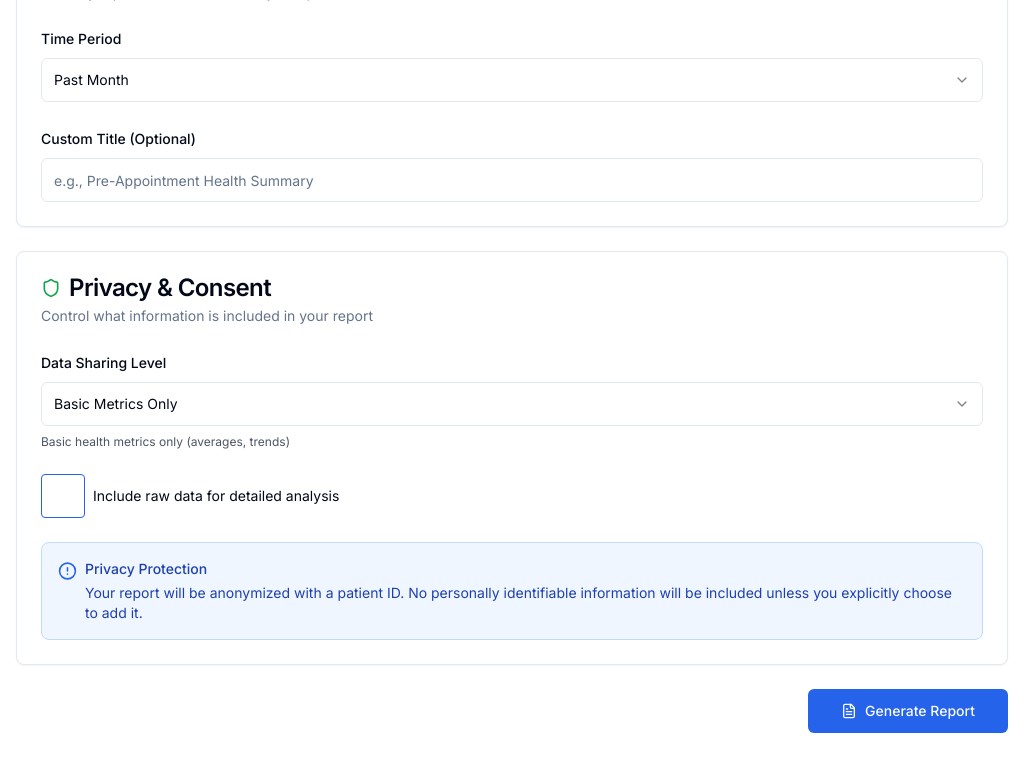
Test: HealthcareReports › shows loading state when generating report
The width and height of the screenshot is (1024, 765).
(page scrolled)
What coordinates should you click on to do the following:
click the button "Generate Report"
I would click on:
 (908, 711)
Its box is [808, 689, 1008, 733].
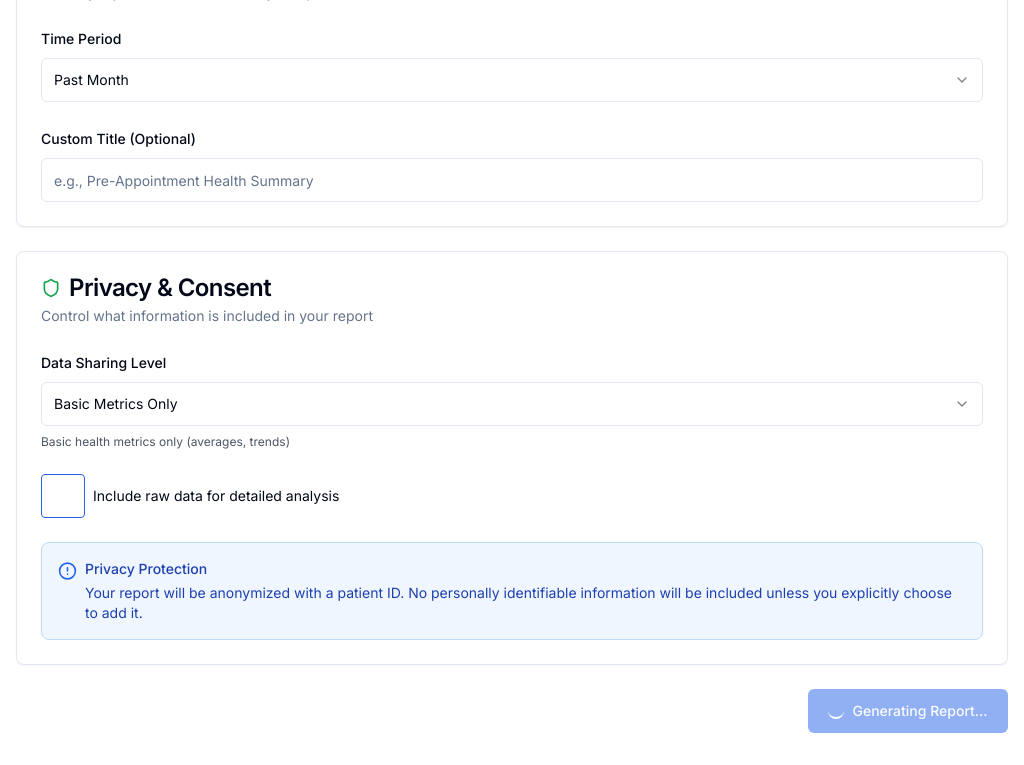
Check: the button "Generating Report..." is disabled, box [808, 689, 1008, 733]
